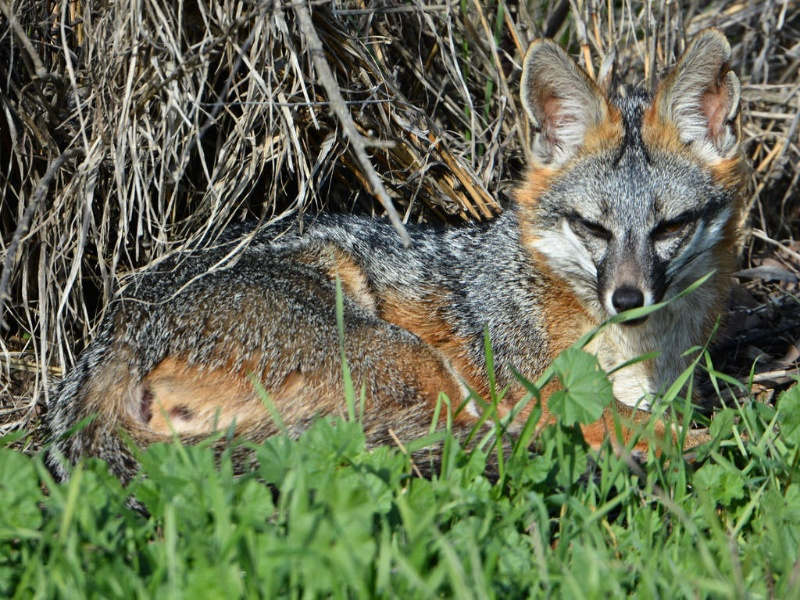fox: (41, 23, 748, 524)
